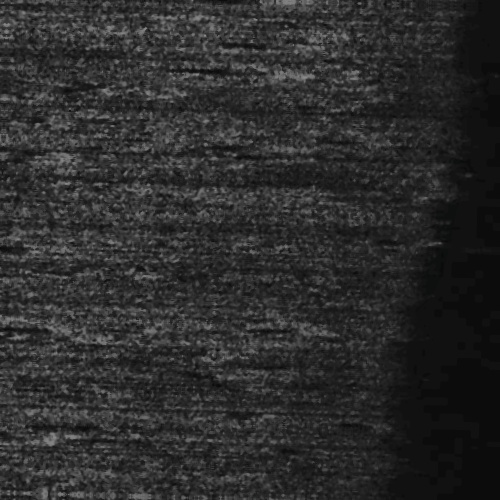object: (0, 434, 105, 449), (222, 67, 295, 74)
shadow: (0, 434, 53, 449), (187, 67, 258, 74)
